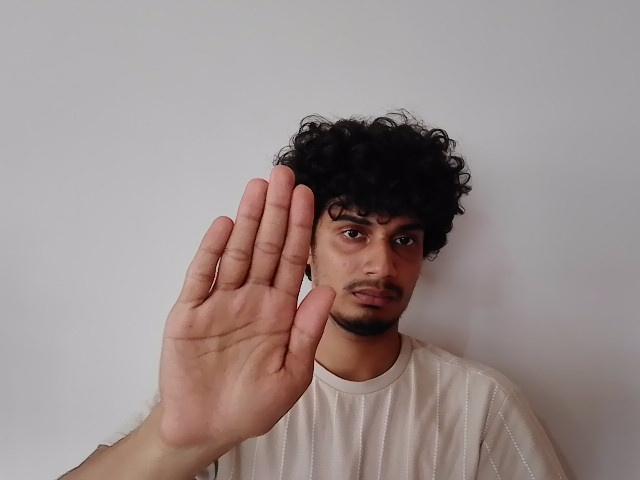hello: (162, 162, 332, 428)
